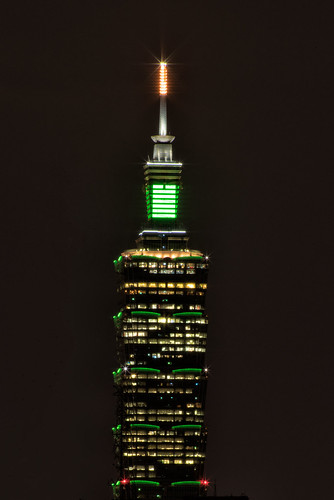low: (106, 130, 216, 498)
